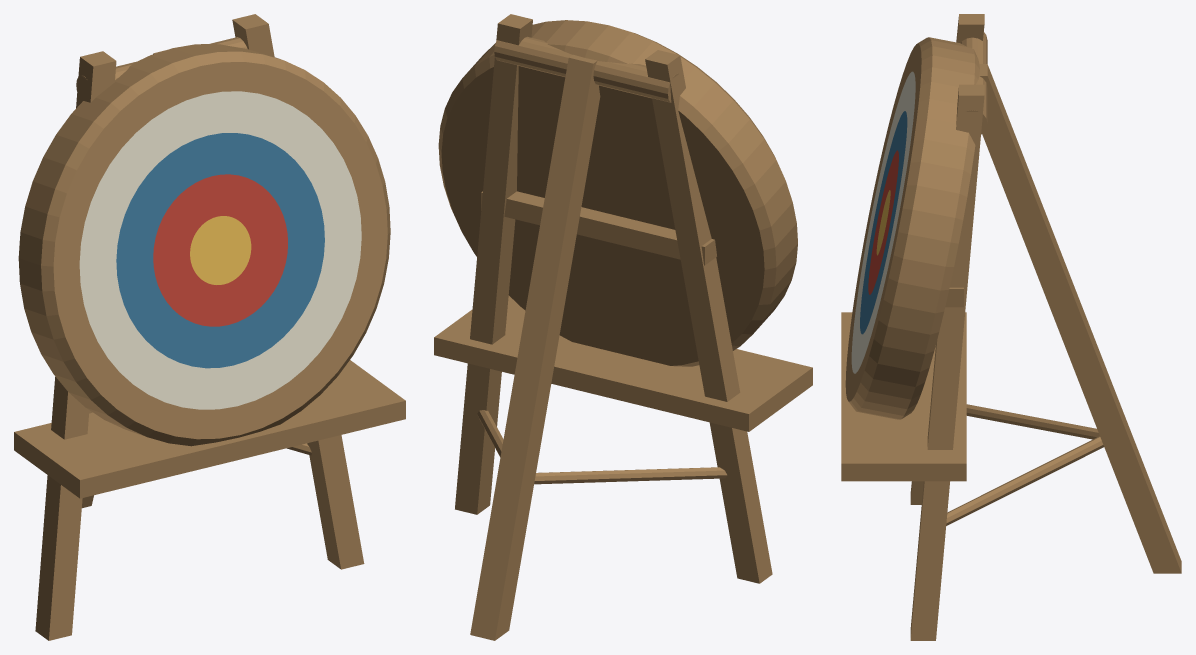
3 views of the same model, side by side, from view 1: azimuth 30°, elevation 25°; view 2: azimuth 150°, elevation 25°; view 3: azimuth 270°, elevation 25° (orthographic). The views are drawn at different scales.
Parts seen in each view (by area): view 1: WholeInclinedThickConcentricTargetBody, WholeBroadLowerReceiverLedge, WholeFrontSplayedCarrierLeg-1, WholeFrontSplayedCarrierLeg1; view 2: WholeInclinedThickConcentricTargetBody, WholeRearPropLeg, WholeFrontSplayedCarrierLeg-1, WholeBroadLowerReceiverLedge, WholeFrontSplayedCarrierLeg1, WholeRearCrossTie, WholeUpperTransverseCarrierPin, WholeDepthBrace-1; view 3: WholeInclinedThickConcentricTargetBody, WholeRearPropLeg, WholeFrontSplayedCarrierLeg1, WholeBroadLowerReceiverLedge, WholeDepthBrace1, WholeDepthBrace-1, WholeFrontSplayedCarrierLeg-1, WholeUpperTransverseCarrierPin.
Boxes of the visible parts, x1,y1,x2,y2 form: WholeInclinedThickConcentricTargetBody: [18, 44, 390, 446]; WholeBroadLowerReceiverLedge: [14, 360, 405, 498]; WholeFrontSplayedCarrierLeg-1: [35, 51, 116, 640]; WholeFrontSplayedCarrierLeg1: [232, 14, 364, 569]; WholeInclinedThickConcentricTargetBody: [438, 20, 797, 366]; WholeRearPropLeg: [470, 54, 600, 640]; WholeFrontSplayedCarrierLeg-1: [645, 50, 772, 583]; WholeBroadLowerReceiverLedge: [434, 295, 812, 431]; WholeFrontSplayedCarrierLeg1: [455, 14, 532, 514]; WholeRearCrossTie: [481, 191, 716, 265]; WholeUpperTransverseCarrierPin: [494, 36, 678, 102]; WholeDepthBrace-1: [534, 467, 727, 484]; WholeInclinedThickConcentricTargetBody: [845, 37, 979, 419]; WholeRearPropLeg: [979, 64, 1181, 573]; WholeFrontSplayedCarrierLeg1: [910, 84, 984, 640]; WholeBroadLowerReceiverLedge: [841, 312, 966, 481]; WholeDepthBrace1: [946, 436, 1103, 525]; WholeDepthBrace-1: [966, 404, 1099, 439]; WholeFrontSplayedCarrierLeg-1: [910, 14, 984, 504]; WholeUpperTransverseCarrierPin: [960, 32, 987, 134].
Size of the model in its own units: 1.14 by 1.69 by 1.02.
